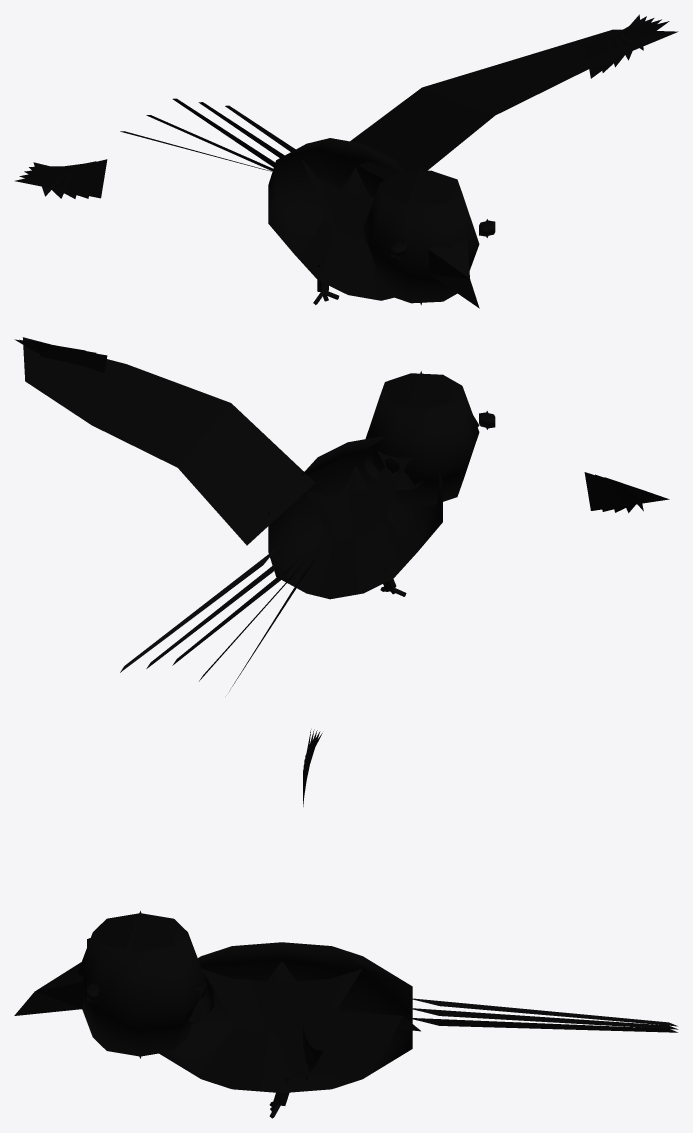
File: gliding_04.glb
3 renders of one model, top to bottom at view 1: azimuth 30°, elevation 25°; view 2: azimuth 150°, elevation 25°; view 3: azimuth 270°, elevation 25°, orthographic. The views are drawn at different scales.
Parts seen in each view (by area): view 1: RaptorBody; view 2: RaptorBody; view 3: RaptorBody.
Boxes of the visible parts, bbox=[...] form: RaptorBody: bbox=[15, 14, 678, 308]; RaptorBody: bbox=[14, 337, 669, 691]; RaptorBody: bbox=[14, 729, 678, 1118].
Size of the model in its own units: 1.25 by 0.3477 by 1.01.
Materials: 7 (7 with a texture image).
